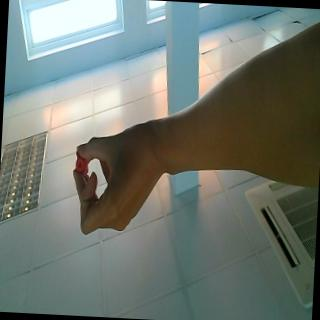Rocket: (72, 157, 86, 172)
